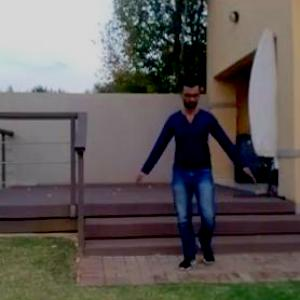land: (137, 60, 270, 290)
